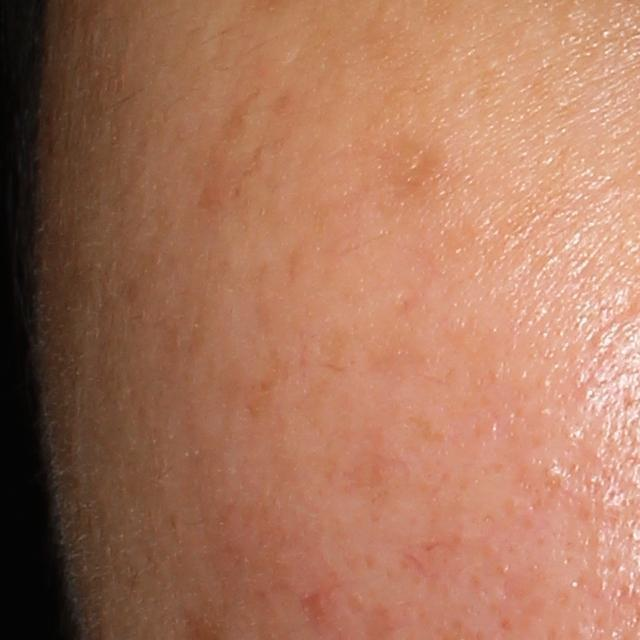melasma: (201, 94, 260, 202), (381, 128, 445, 212)
